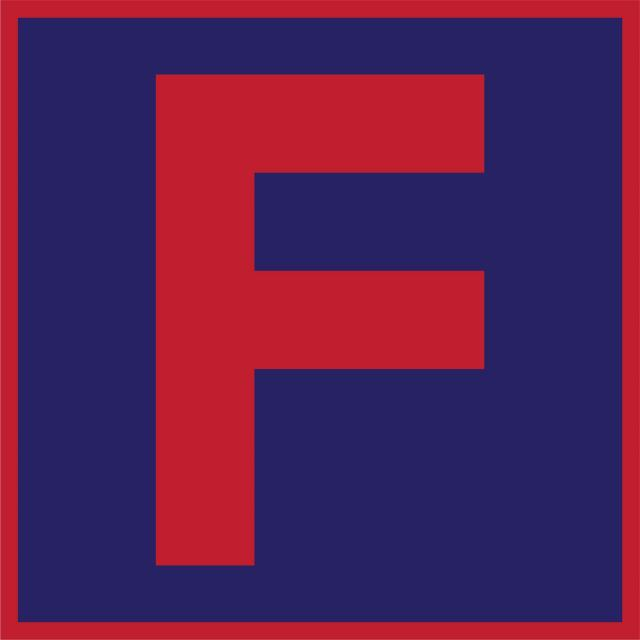F: (126, 32, 507, 574)
